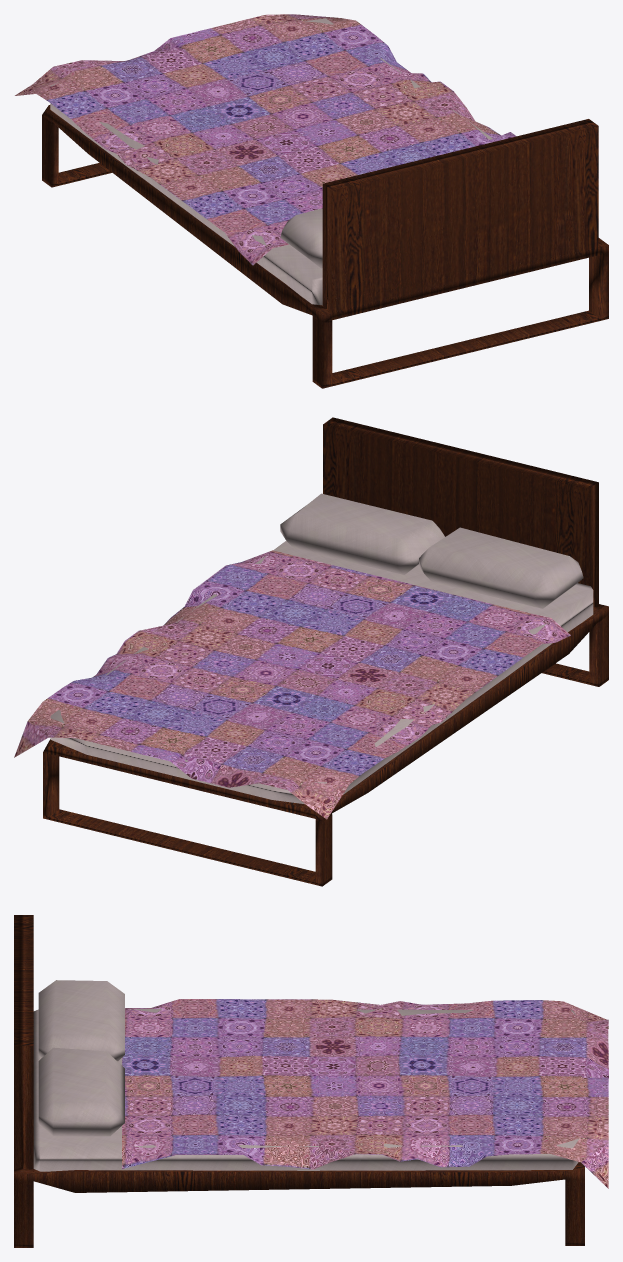
File: bed.glb
3 views of the same model, one above another, from view 1: azimuth 30°, elevation 25°; view 2: azimuth 150°, elevation 25°; view 3: azimuth 270°, elevation 25° (orthographic).
Parts seen in each view (by area): view 1: Object; view 2: Object; view 3: Object.
Boxes of the visible parts, box(x1,y1,x2,y2) form: Object: box(15, 14, 608, 388); Object: box(14, 417, 608, 886); Object: box(14, 915, 608, 1247).
Bounding box in the file's own units: 1.34 × 0.7847 × 2.15.
Materials: 3 (3 with a texture image).
